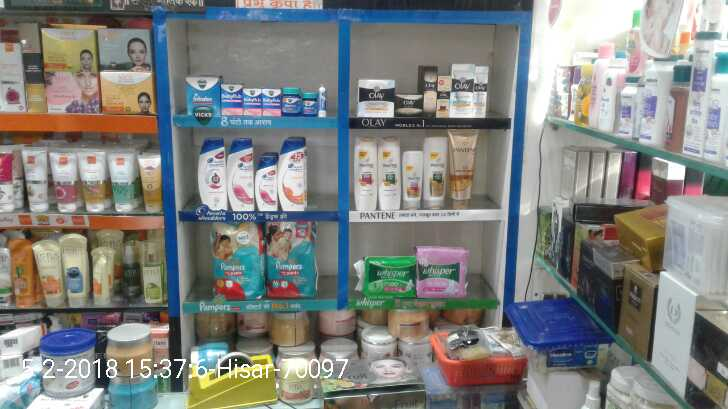beauty: (424, 69, 485, 116), (188, 137, 223, 214), (218, 132, 251, 213), (450, 120, 477, 216), (416, 143, 455, 209), (271, 137, 305, 209), (373, 137, 400, 214), (350, 71, 393, 118), (352, 132, 374, 216), (393, 83, 428, 117), (255, 150, 272, 216), (402, 147, 419, 200)
pharmacy: (260, 222, 317, 302), (209, 222, 266, 299), (413, 252, 467, 300), (360, 253, 415, 299), (179, 75, 216, 109), (214, 80, 240, 117), (257, 80, 280, 115), (275, 81, 298, 116), (245, 87, 264, 119), (301, 88, 317, 117)
